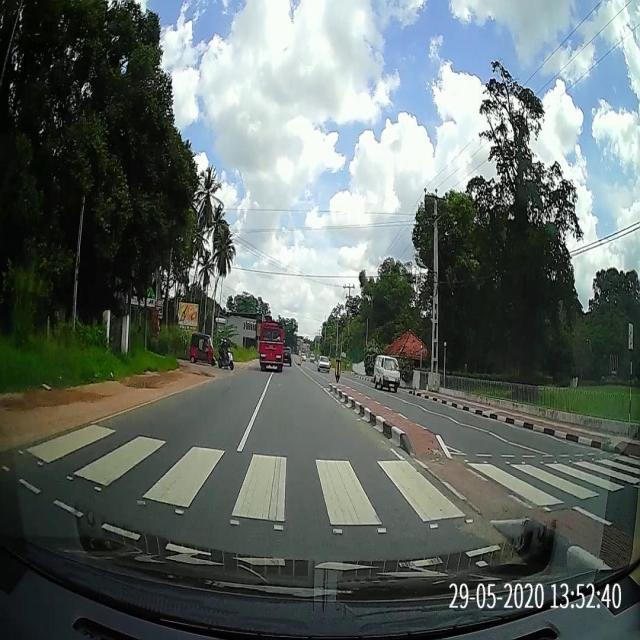Crosswalk: (1, 422, 640, 574)
